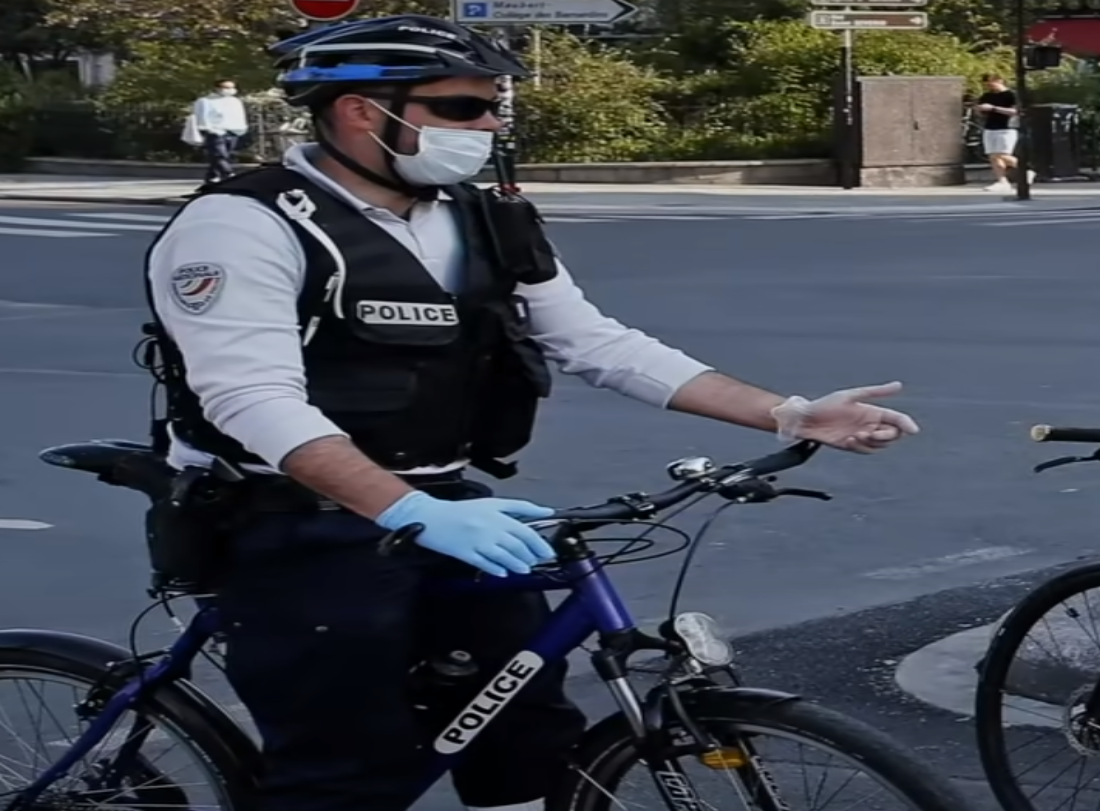mask_weared_incorrect: (290, 22, 512, 196)
